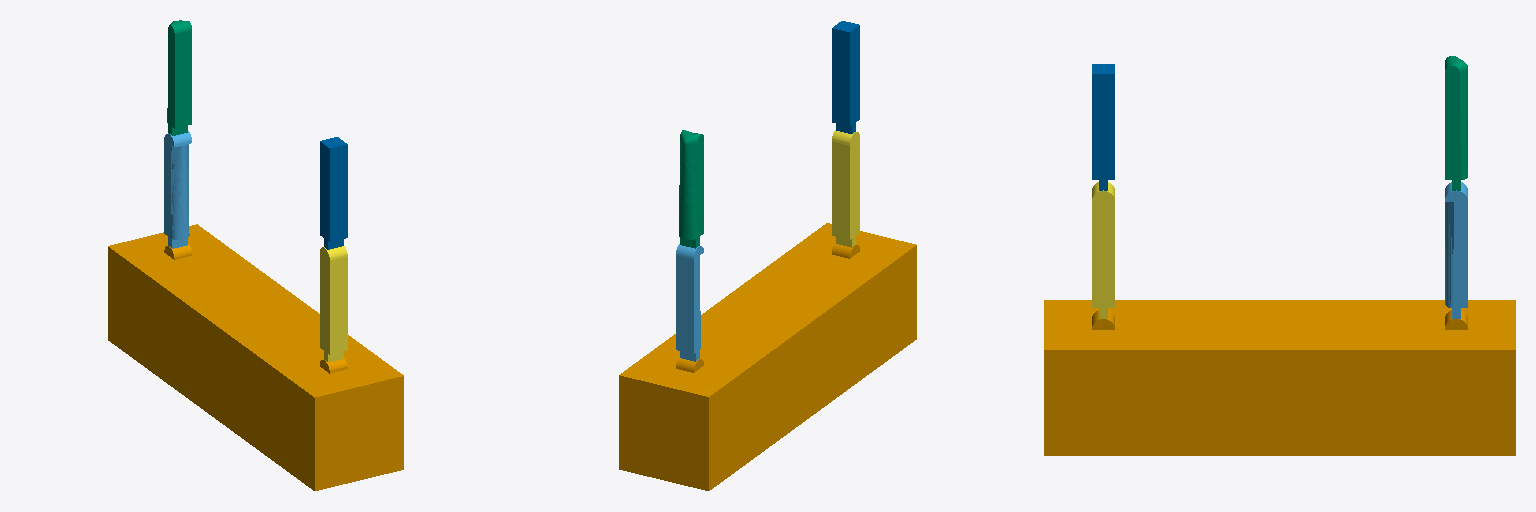
URDF robot description (test_hand):
<?xml version="1.0" ?>
<robot name="test_hand">

    <link name="palm">
        <visual>
            <origin rpy="0 0 0" xyz="0 0 0"/>
            <geometry>
                <mesh filename="obj_files/palm.obj" scale="0.1 0.1 0.1"/>
            </geometry>
        </visual>
        <collision>
            <geometry>
                <mesh filename="obj_files/palm_collision.obj" scale="0.1 0.1 0.1"/>
            </geometry>
        </collision>
    </link>

    <link name="finger0_segment0">
        <visual>
            <origin rpy="0 0 3.141592653589793" xyz="0 0 0"/>
            <geometry>
                <mesh filename="obj_files/finger0_segment0.obj" scale="0.1 0.1 0.1"/>
            </geometry>
        </visual>
        <collision>
            <geometry>
                <mesh filename="obj_files/finger0_segment0_collision.obj" scale="0.1 0.1 0.1"/>
            </geometry>
        </collision>
    </link>

    <joint name="finger0_segment0_joint" type="revolute">
        <parent link="palm"/>
        <child link="finger0_segment0"/>
        <origin rpy="0 0 0" xyz="0.0 0.075 0"/> #3.141592653589793
        <axis xyz="1 0 0"/>
        <limit effort="1000.0" lower="-3.14" upper="3.14" velocity="0.5"/>
    </joint>

    <link name="finger0_segment1">
        <visual>
            <origin rpy="0 0 0" xyz="0 0 0"/>
            <geometry>
                <mesh filename="obj_files/finger0_segment1.obj" scale="0.1 0.1 0.1"/>
            </geometry>
        </visual>
        <collision>
            <geometry>
                <mesh filename="obj_files/finger0_segment1_collision.obj" scale="0.1 0.1 0.1"/>
            </geometry>
        </collision>
    </link>

    <joint name="finger0_segment1_joint" type="revolute">
        <parent link="finger0_segment0"/>
        <child link="finger0_segment1"/>
        <origin rpy="0 0 0" xyz="0 0 0.06"/>
        <axis xyz="1 0 0"/>
        <limit effort="1000.0" lower="-3.14" upper="3.14" velocity="0.5"/>
    </joint>

    <link name="finger1_segment0">
        <visual>
            <origin rpy="0 0 0" xyz="0 0 0"/>
            <geometry>
                <mesh filename="obj_files/finger1_segment0.obj" scale="0.1 0.1 0.1"/>
            </geometry>
        </visual>
        <collision>
            <geometry>
                <mesh filename="obj_files/finger1_segment0_collision.obj" scale="0.1 0.1 0.1"/>
            </geometry>
        </collision>
    </link>

    <joint name="finger1_segment0_joint" type="revolute">
        <parent link="palm"/>
        <child link="finger1_segment0"/>
        <origin rpy="0 0 0.0" xyz="0 -0.075 0"/>
        <axis xyz="1 0 0"/>
        <limit effort="1000.0" lower="-3.14" upper="3.14" velocity="0.5"/>
    </joint>

    <link name="finger1_segment1">
        <visual>
            <origin rpy="0 0 0" xyz="0 0 0"/>
            <geometry>
                <mesh filename="obj_files/finger1_segment1.obj" scale="0.1 0.1 0.1"/>
            </geometry>
        </visual>
        <collision>
            <geometry>
                <mesh filename="obj_files/finger1_segment1_collision.obj" scale="0.1 0.1 0.1"/>
            </geometry>
        </collision>
    </link>

    <joint name="finger1_segment1_joint" type="revolute">
        <parent link="finger1_segment0"/>
        <child link="finger1_segment1"/>
        <origin rpy="0 0 0" xyz="0 0 0.06"/>
        <axis xyz="1 0 0"/>
        <limit effort="1000.0" lower="-3.14" upper="3.14" velocity="0.5"/>
    </joint>

</robot>

--- Facts derived from the render (not from the file) ---
3 views of the same robot in one strip: view 1: azimuth 30°, elevation 25°; view 2: azimuth 150°, elevation 25°; view 3: azimuth 270°, elevation 25° (orthographic).
Model test_hand with 5 links and 4 joints (4 revolute), rooted at palm, posed all joints at 0.
Links seen in each view (by area): view 1: palm, finger1_segment0, finger1_segment1, finger0_segment0, finger0_segment1; view 2: palm, finger1_segment0, finger1_segment1, finger0_segment1, finger0_segment0; view 3: palm, finger0_segment1, finger1_segment0, finger0_segment0, finger1_segment1.
Link boxes in pixels (x1=…): palm: x1=108, y1=224, x2=403, y2=490; finger1_segment0: x1=320, y1=246, x2=347, y2=361; finger1_segment1: x1=320, y1=137, x2=347, y2=249; finger0_segment0: x1=164, y1=131, x2=191, y2=248; finger0_segment1: x1=167, y1=20, x2=191, y2=135; palm: x1=619, y1=223, x2=916, y2=490; finger1_segment0: x1=832, y1=130, x2=859, y2=247; finger1_segment1: x1=832, y1=21, x2=859, y2=133; finger0_segment1: x1=679, y1=130, x2=703, y2=248; finger0_segment0: x1=676, y1=244, x2=703, y2=361; palm: x1=1044, y1=300, x2=1515, y2=455; finger0_segment1: x1=1445, y1=56, x2=1467, y2=190; finger1_segment0: x1=1092, y1=182, x2=1114, y2=318; finger0_segment0: x1=1445, y1=182, x2=1467, y2=318; finger1_segment1: x1=1092, y1=64, x2=1114, y2=190.
Size in the robot's own frame: 0.05 by 0.2 by 0.1737 metres.
Meshes: 5 distinct files referenced, 5 mesh visuals loaded (5 OBJ).